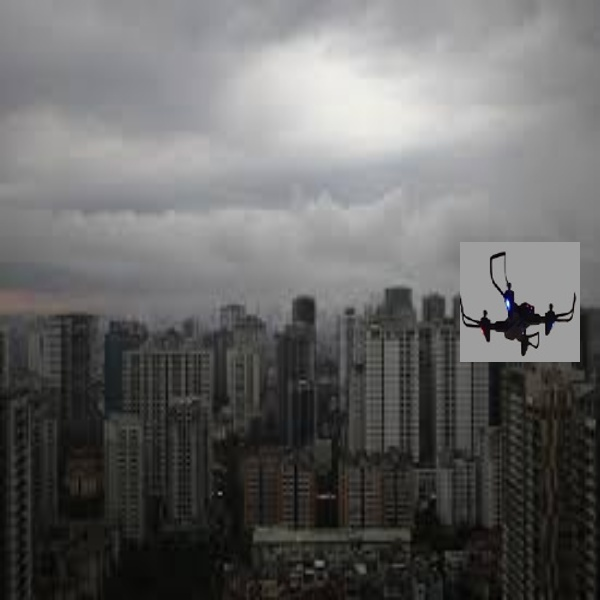drone: (464, 248, 577, 356)
